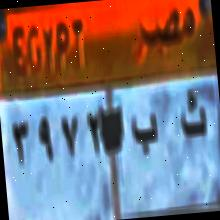2: (84, 104, 104, 157)
3: (8, 118, 35, 172)
7: (59, 108, 82, 160)
9: (36, 111, 58, 166)
baa: (128, 102, 162, 159)
thaa: (176, 82, 210, 154)
